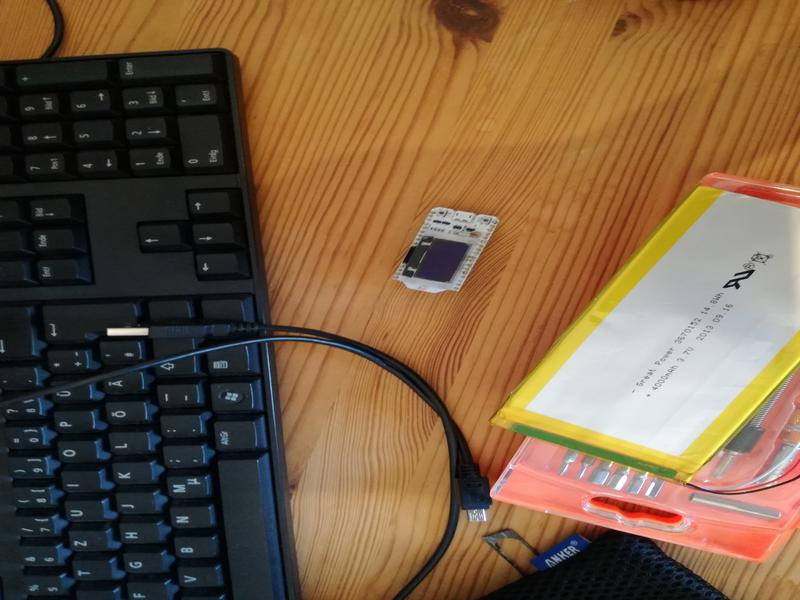Heltec_ESP32_Lora: (390, 203, 504, 300)
